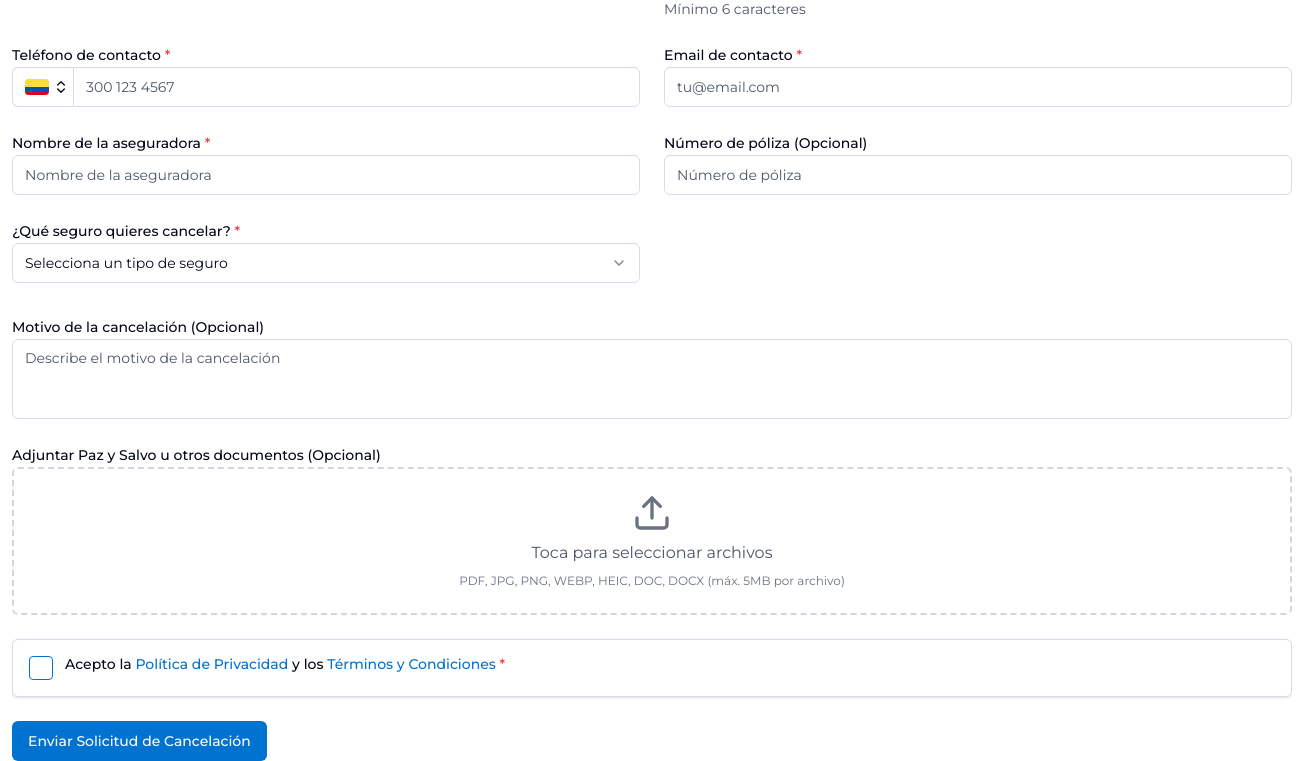
Test case: CancellationForm › Form Validation › shows the required-field messages on submit
(page scrolled)
Click the button "Enviar Solicitud de Cancelación" at (139, 741), box [12, 721, 267, 760]
(page scrolled)
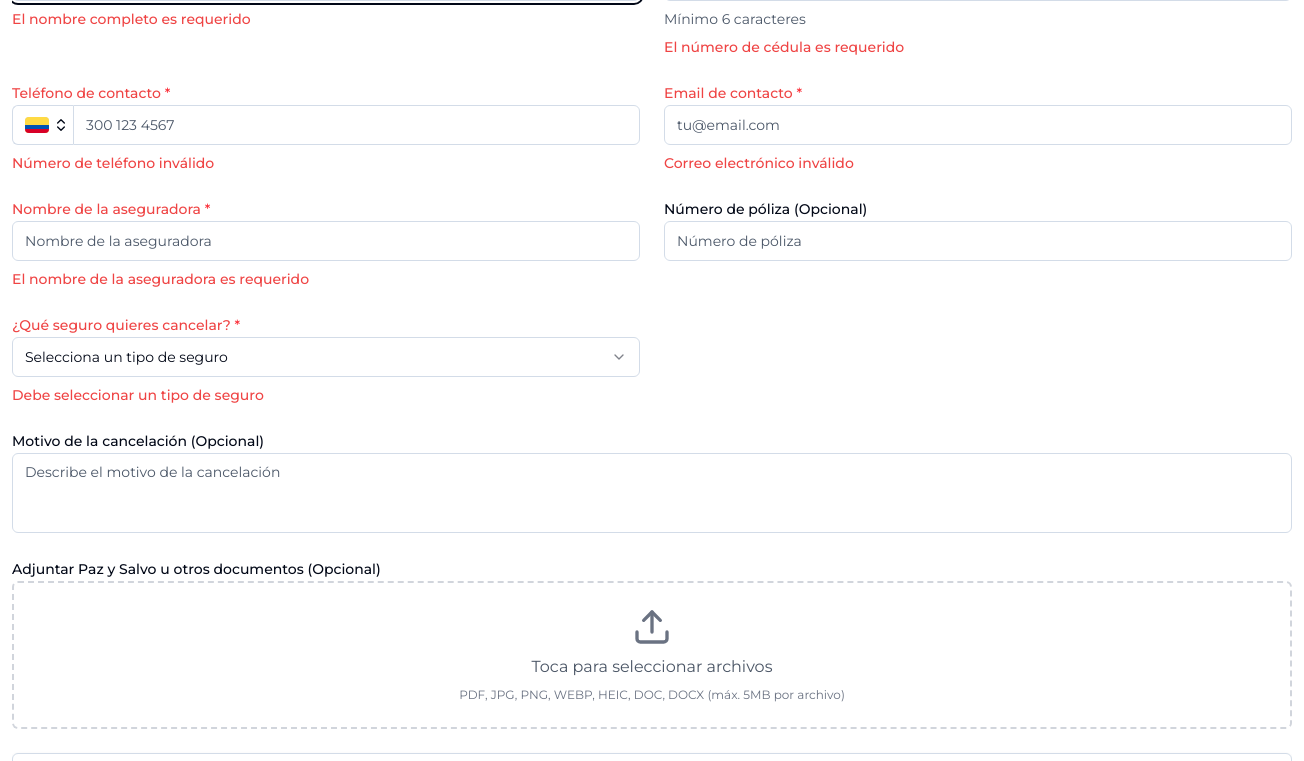
Expected: the text "El nombre completo es requerido" is shown, [12, 10, 251, 28]
Expected: the text "El número de cédula es requerido" is shown, [664, 38, 904, 56]
Expected: the text "El nombre de la aseguradora es requerido" is shown, [12, 270, 309, 288]
